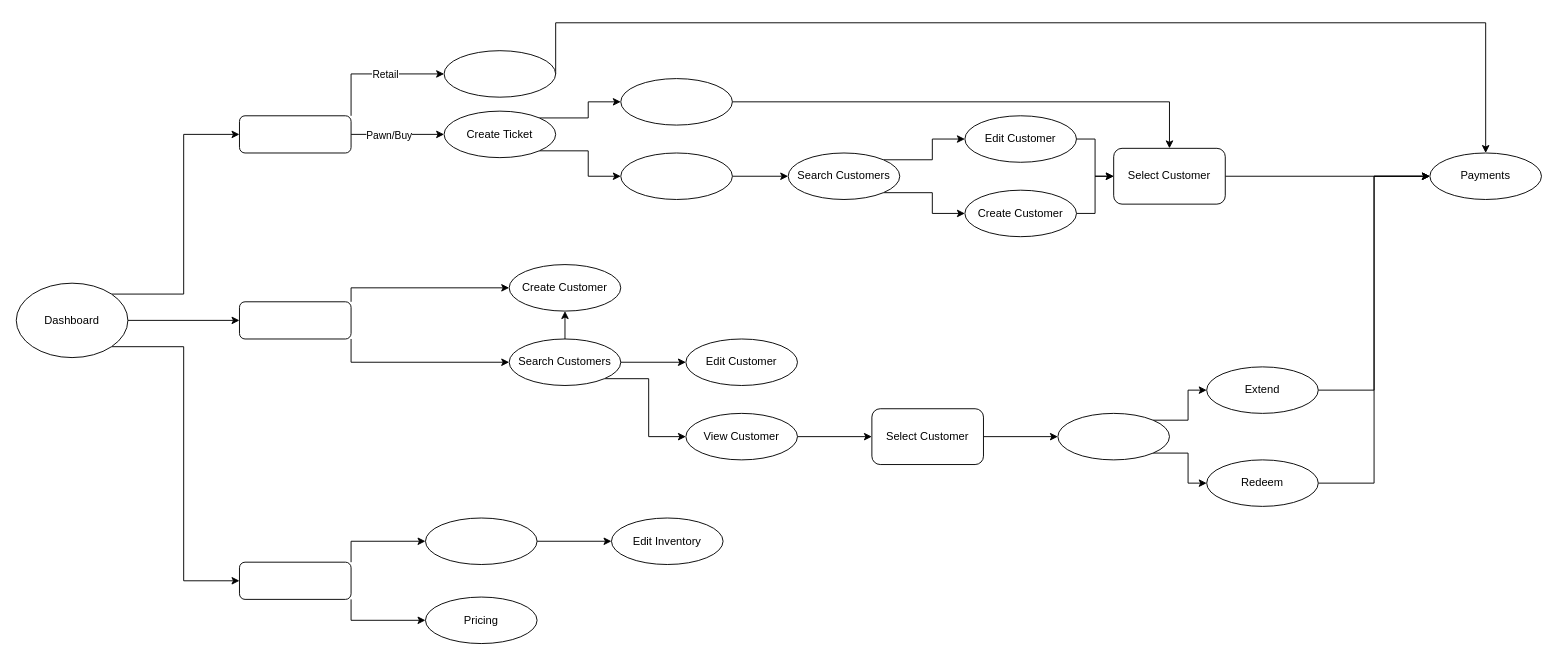
Image size: 1558x660. Some labels were removed from this diagram. The shapes that lost their labels are listed below. From the top down, each one's centre as x and y in pixels, then its label:
At point 499,73: "Add Item to Transaction".
At point 676,101: "Add Items to Ticket".
At point 295,134: "Transaction".
At point 676,175: "Add Customer to Ticket".
At point 295,320: "Manage Customers".
At point 1113,436: "View Tickets".
At point 481,541: "Search Inventory".
At point 295,580: "Manage Inventory".
